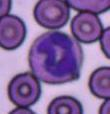N: (28, 31, 83, 83)
